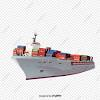tau_dansu: (12, 36, 99, 78)
